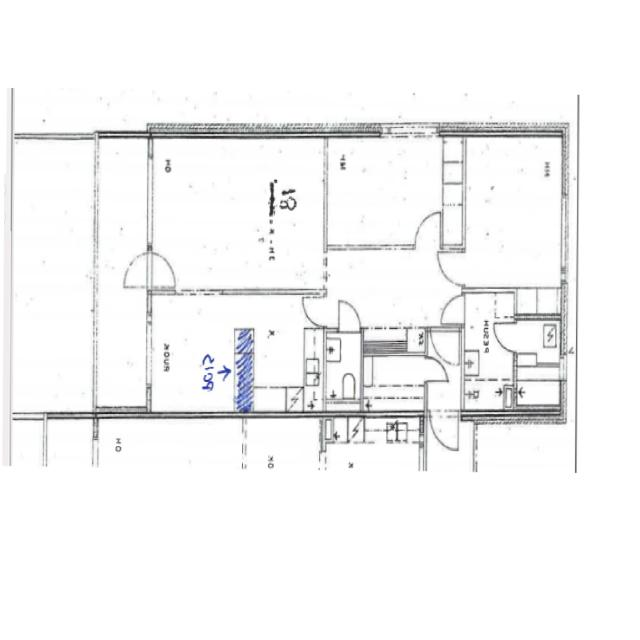door: (430, 411, 458, 454), (431, 328, 459, 370), (121, 253, 152, 287), (148, 253, 178, 287), (436, 252, 465, 285), (416, 211, 440, 249), (438, 295, 465, 325), (491, 322, 517, 352), (301, 297, 327, 326), (338, 300, 359, 333), (424, 357, 446, 381)
